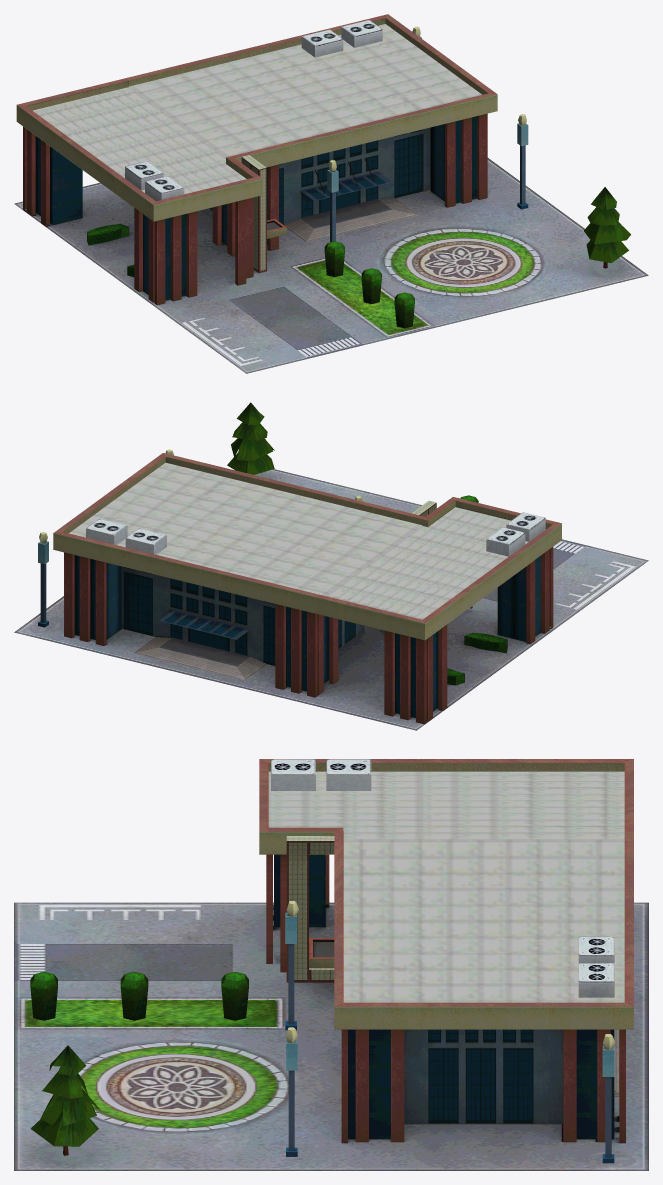
File: zhanlanguan.FBX
3 views of the same model, one above another, from view 1: azimuth 30°, elevation 25°; view 2: azimuth 150°, elevation 25°; view 3: azimuth 270°, elevation 25° (orthographic). The views are drawn at different scales.
Visible parts, largest first — view 1: zhanlanguan; view 2: zhanlanguan; view 3: zhanlanguan.
Boxes of the visible parts, x1=… form: zhanlanguan: x1=14, y1=14, x2=648, y2=373; zhanlanguan: x1=14, y1=402, x2=648, y2=730; zhanlanguan: x1=14, y1=759, x2=648, y2=1170.
Size of the model in its own units: 1353 by 349 by 1342.
1 material, 1 textured.
